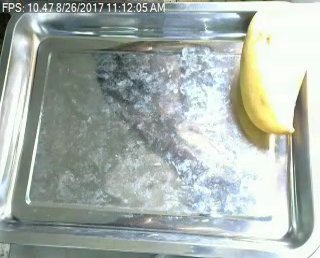Mango: (236, 5, 312, 142)
